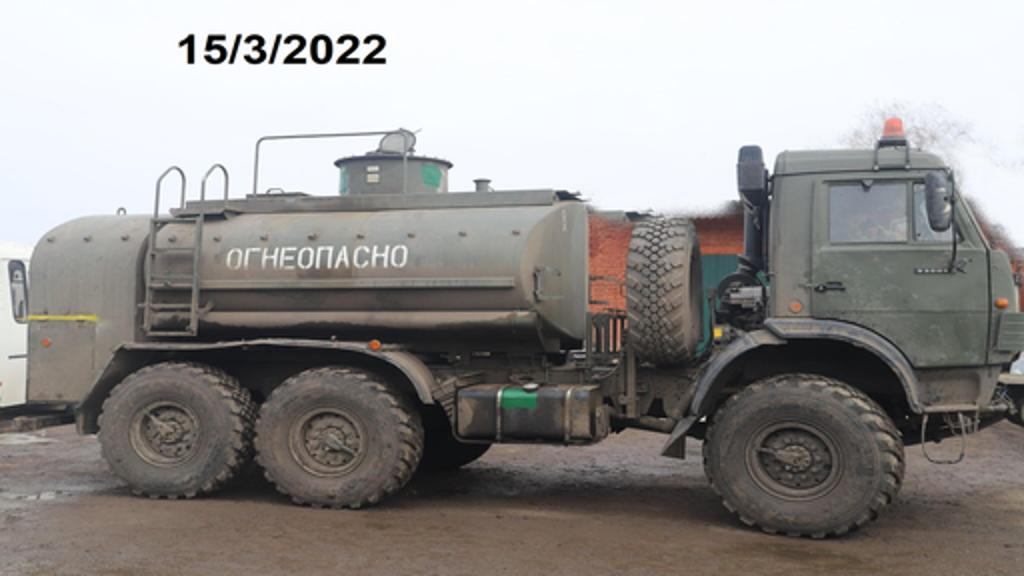TRUCK: (20, 138, 1018, 538)
